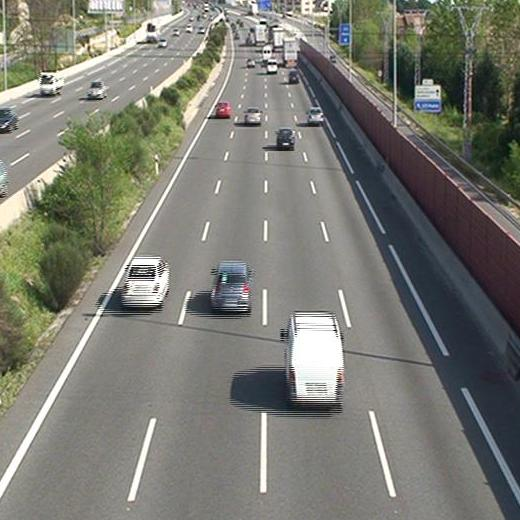car: (123, 258, 170, 306), (210, 262, 250, 311), (277, 129, 295, 150), (308, 106, 324, 125), (245, 106, 261, 122), (215, 102, 229, 118), (268, 59, 276, 74), (288, 71, 297, 83), (246, 58, 255, 68)
truck: (284, 37, 298, 67)
van: (284, 313, 343, 406), (262, 45, 271, 62)
